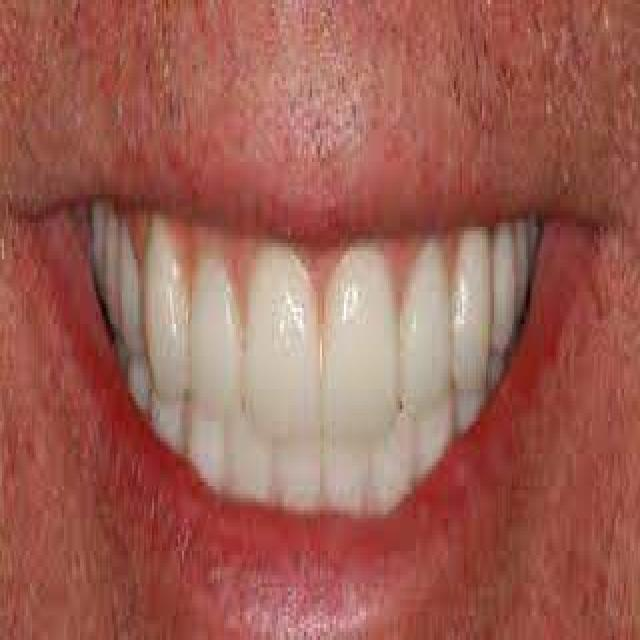tooth: (246, 251, 322, 438), (322, 259, 396, 422), (402, 243, 450, 413), (142, 219, 186, 397), (186, 267, 242, 405), (454, 227, 484, 393), (116, 227, 146, 340), (324, 426, 366, 506), (488, 223, 512, 352), (190, 413, 228, 494), (226, 417, 264, 494), (372, 433, 406, 502), (104, 211, 122, 328), (292, 438, 324, 498), (510, 219, 528, 324), (90, 195, 108, 288), (152, 401, 186, 442), (414, 425, 452, 458), (454, 393, 484, 429), (126, 360, 146, 397)
